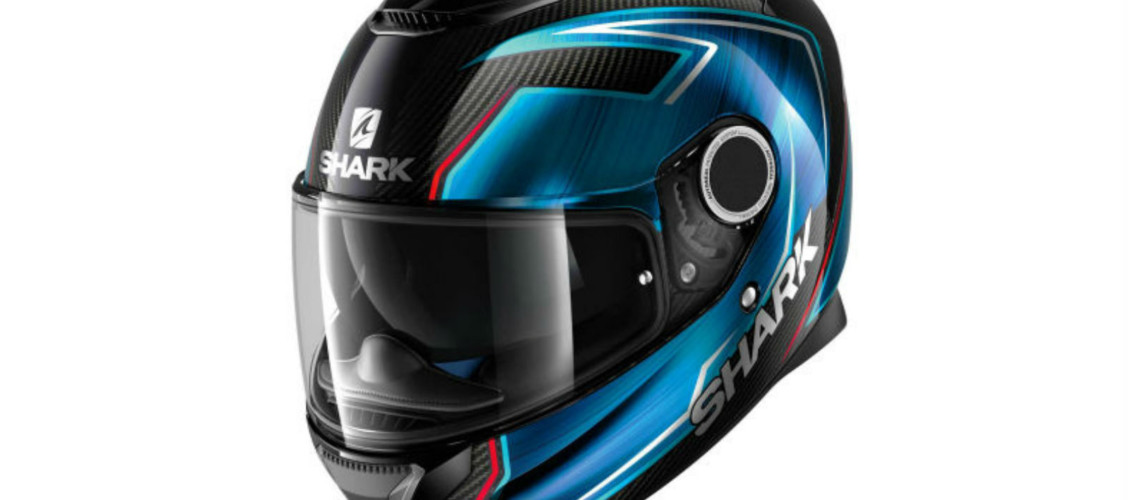with_helmet: (295, 1, 861, 500)
